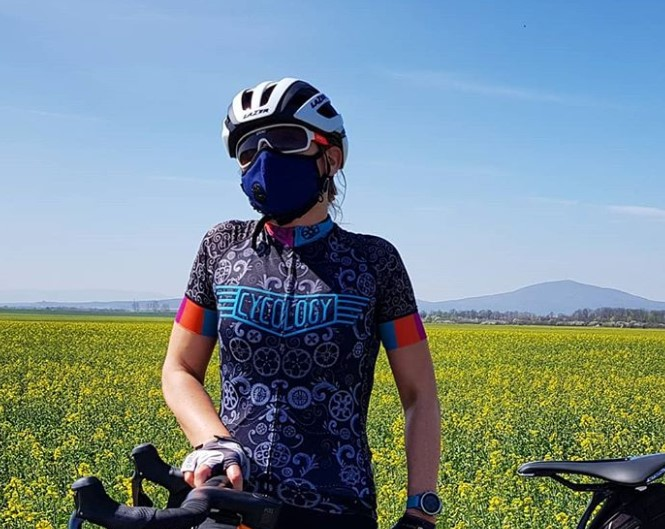face_with_mask: (221, 75, 351, 225)
